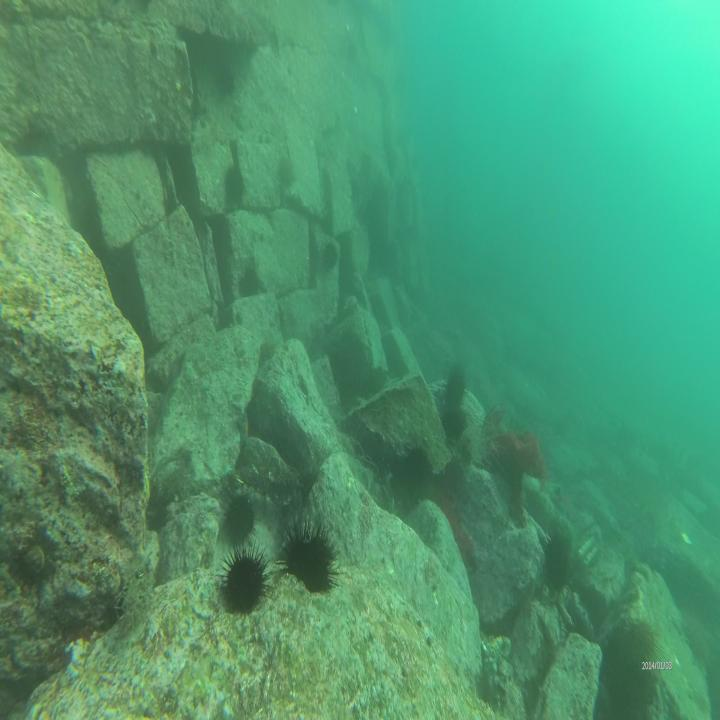echinus: (282, 518, 334, 595), (222, 550, 266, 612), (624, 614, 656, 665), (544, 535, 570, 596), (224, 492, 255, 542), (442, 363, 465, 408), (442, 405, 468, 440), (320, 241, 340, 273)
